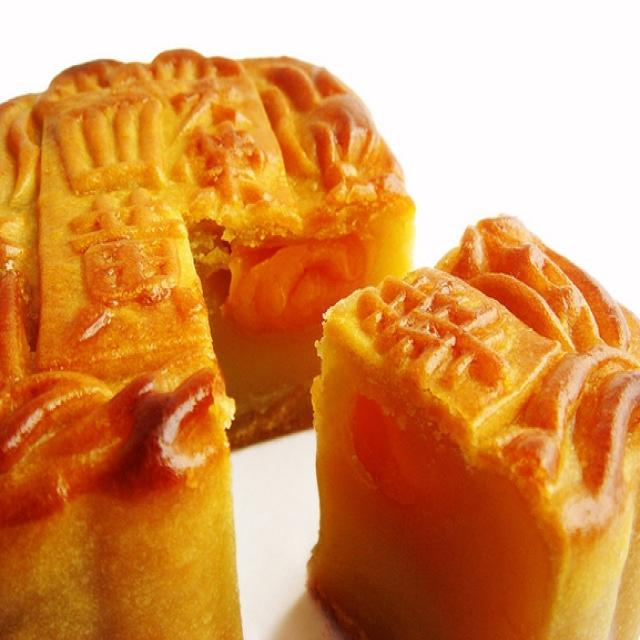蛋糕甜品: (5, 28, 618, 618)
